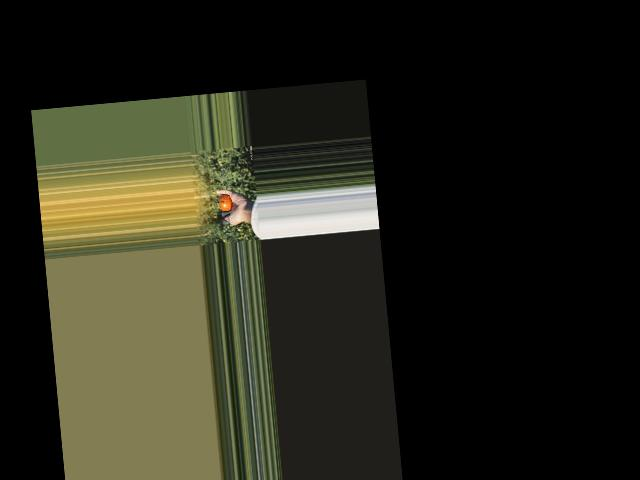tomato: (216, 193, 232, 211)
